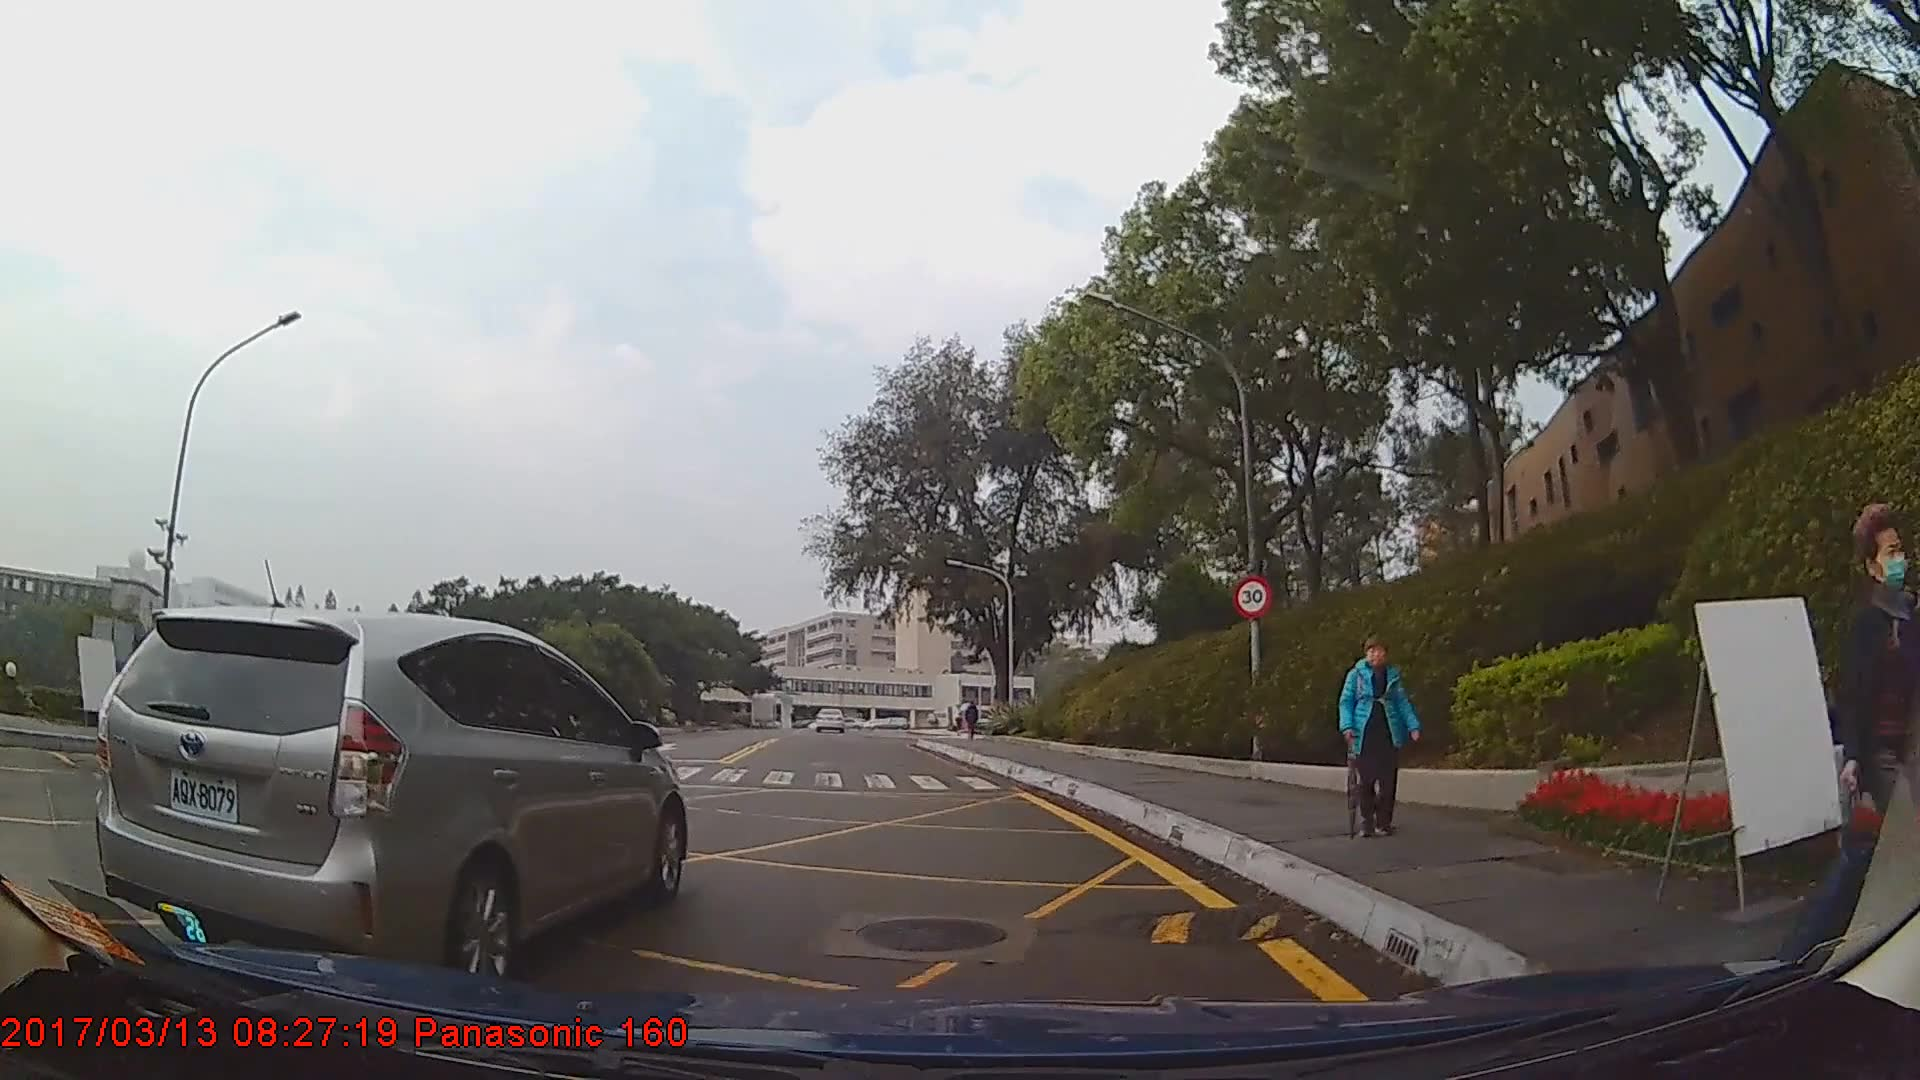pedestrian: (1755, 482, 1920, 1007), (1325, 622, 1436, 855), (963, 701, 983, 741)
vehicle: (92, 608, 687, 983), (812, 703, 846, 730)
